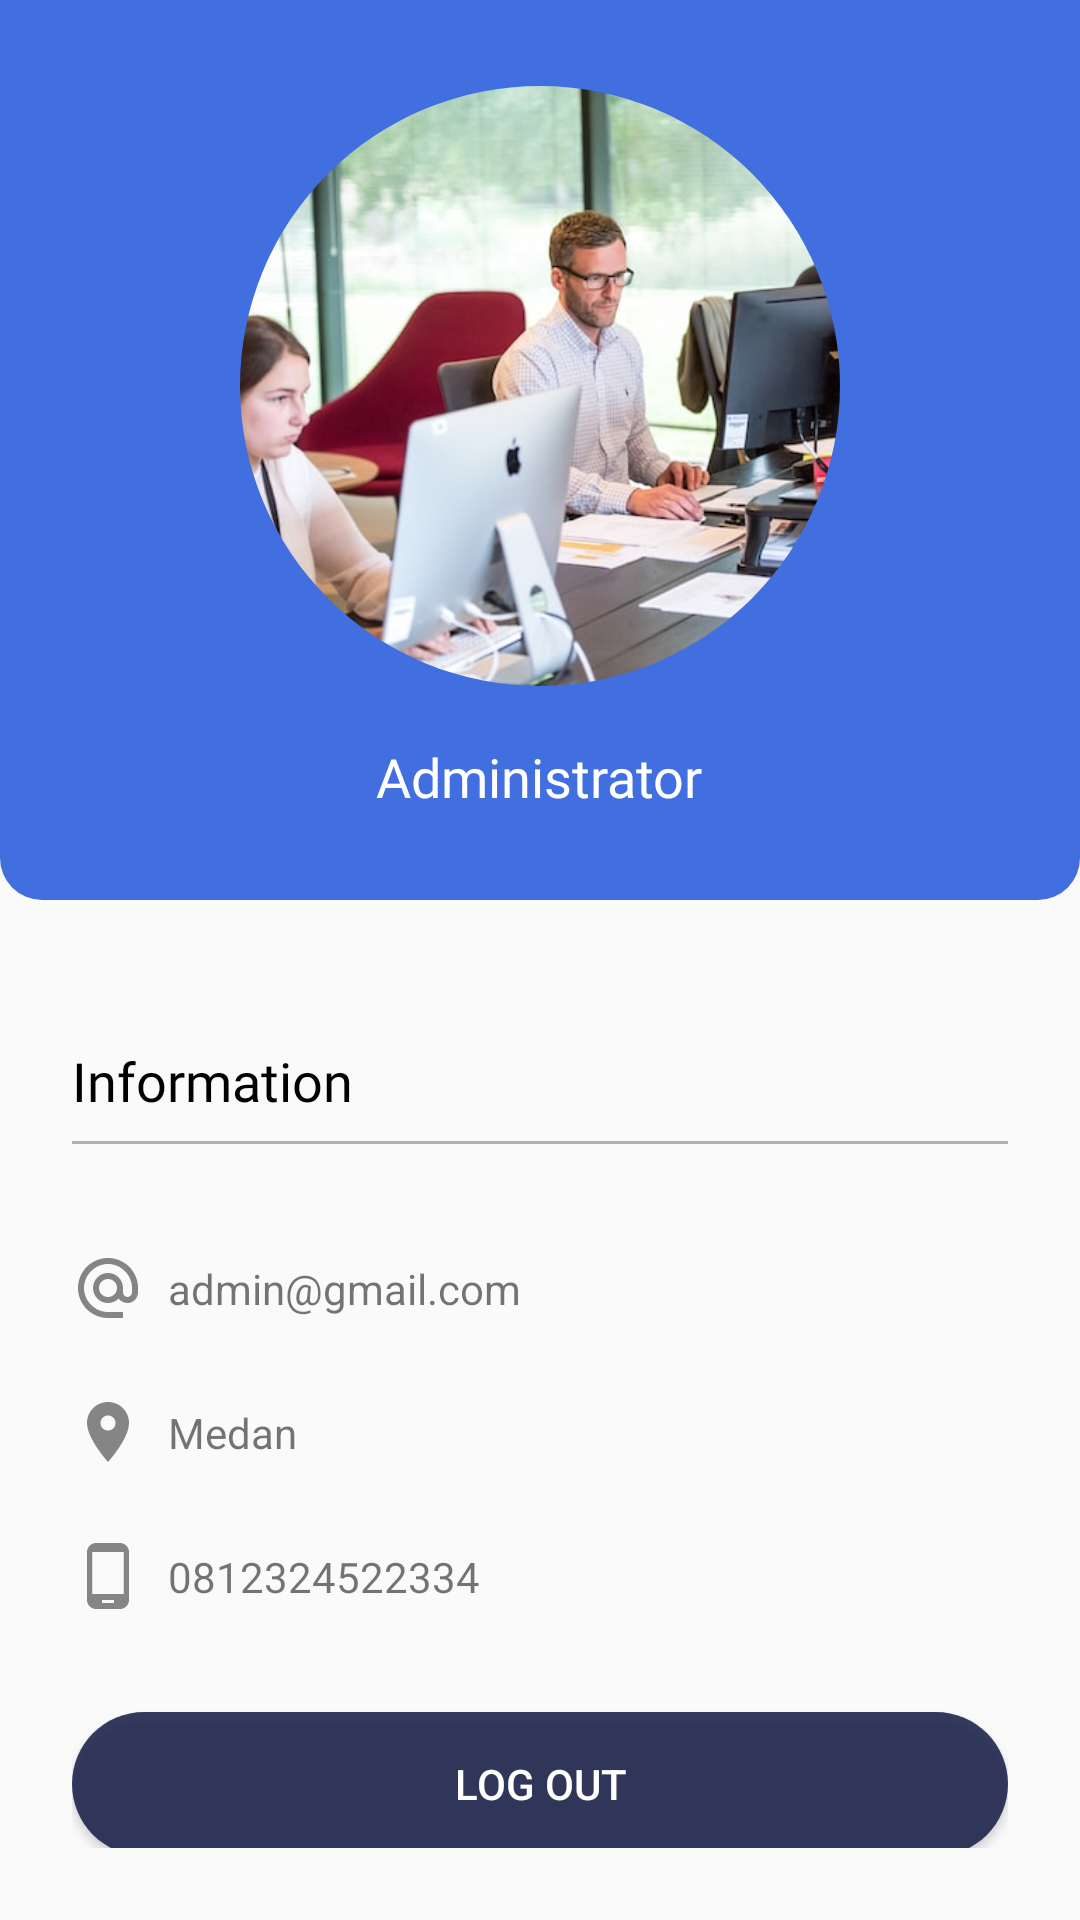

Icon bounding boxes for this 1080 x 1920 phone screenshot, format (left=x1, top=y1, right=x2, bottom=y2):
address: (left=87, top=1402, right=129, bottom=1462)
phone: (left=87, top=1543, right=129, bottom=1609)
